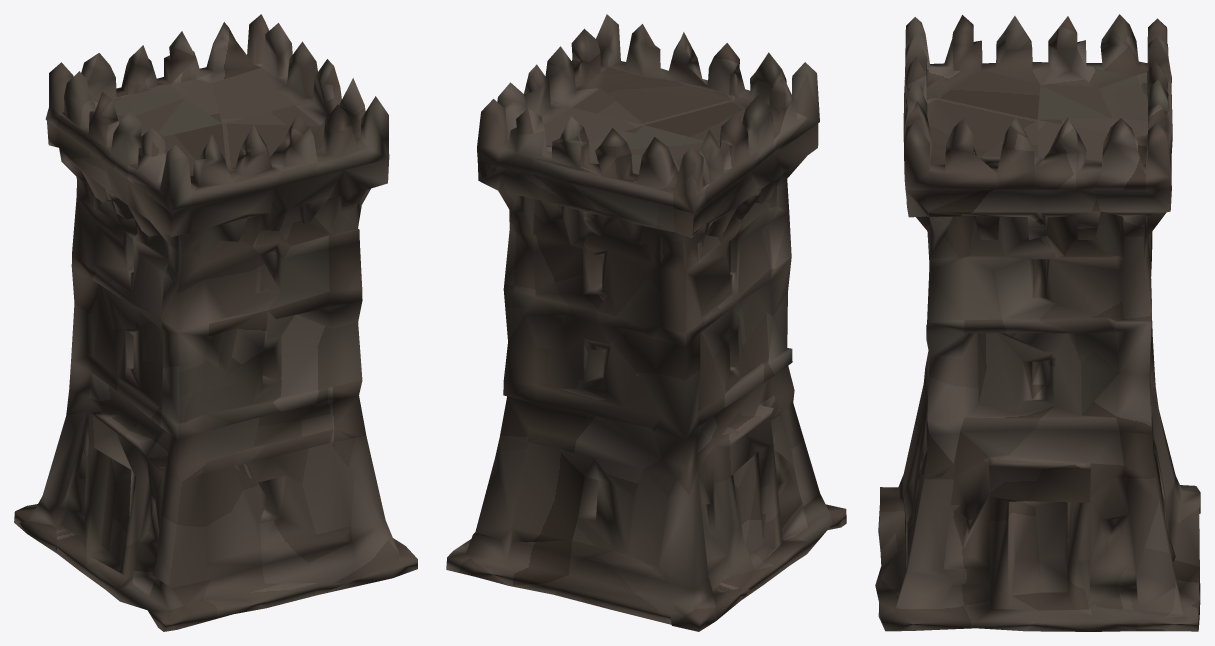
Rendered from castle_tower_medium_wood_lo.glb.
3 renders of one model, left to right at view 1: azimuth 30°, elevation 25°; view 2: azimuth 150°, elevation 25°; view 3: azimuth 270°, elevation 25°, orthographic. The views are drawn at different scales.
Parts seen in each view (by area): view 1: tripo_node_1a173bee-4266-46d5-8697-ab4af1047a94; view 2: tripo_node_1a173bee-4266-46d5-8697-ab4af1047a94; view 3: tripo_node_1a173bee-4266-46d5-8697-ab4af1047a94.
Boxes of the visible parts, x1,y1,x2,y2 form: tripo_node_1a173bee-4266-46d5-8697-ab4af1047a94: (14,14,417,631); tripo_node_1a173bee-4266-46d5-8697-ab4af1047a94: (446,14,846,631); tripo_node_1a173bee-4266-46d5-8697-ab4af1047a94: (875,14,1200,631).
Size of the model in its own units: 0.5745 by 0.9792 by 0.5776.
1 material, 1 textured.
